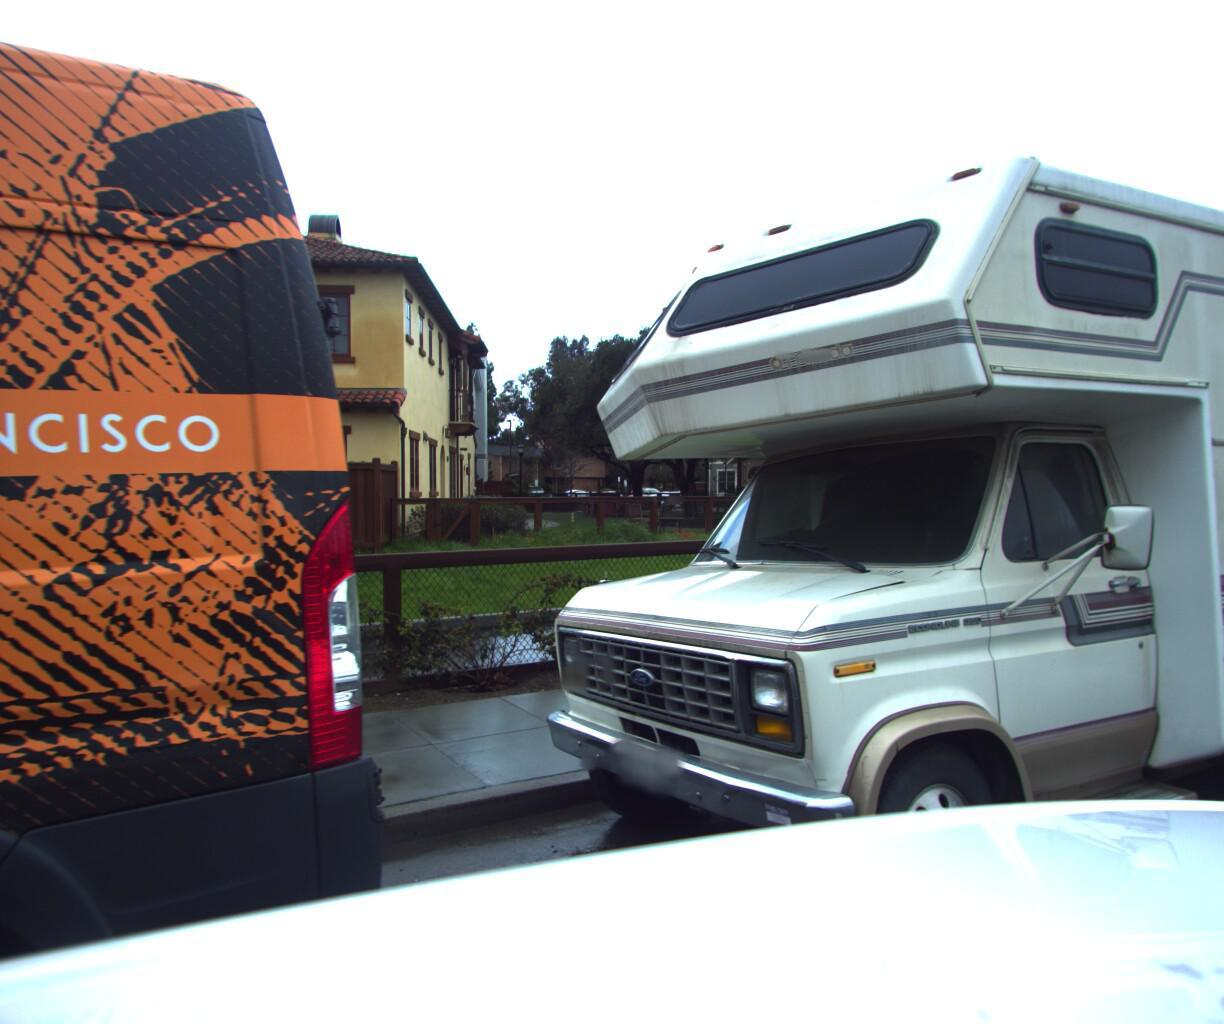other_vehicle: (512, 0, 1224, 1024)
